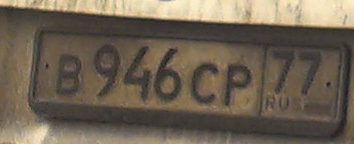character: (154, 45, 183, 103), (91, 43, 120, 99), (124, 44, 151, 103), (191, 61, 219, 105), (225, 64, 253, 108), (54, 52, 80, 98), (299, 50, 325, 96), (272, 48, 293, 94)
